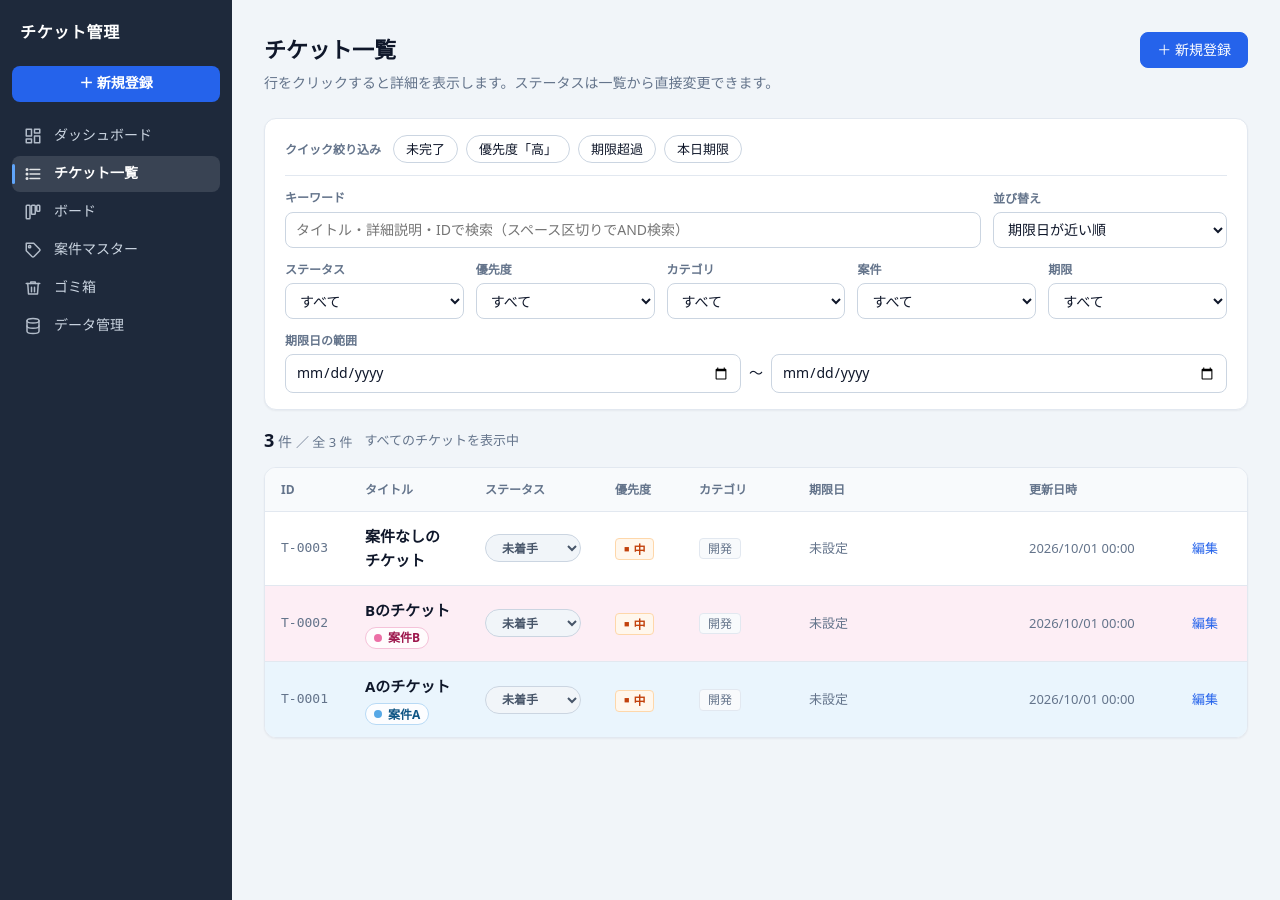
チケットへの案件の設定と絞り込み › 一覧で案件による絞り込みができ、条件チップに案件名が表示される
Select "案件A" in the dropdown labelled "案件" at (947, 301), box 857,283 -> 1036,319
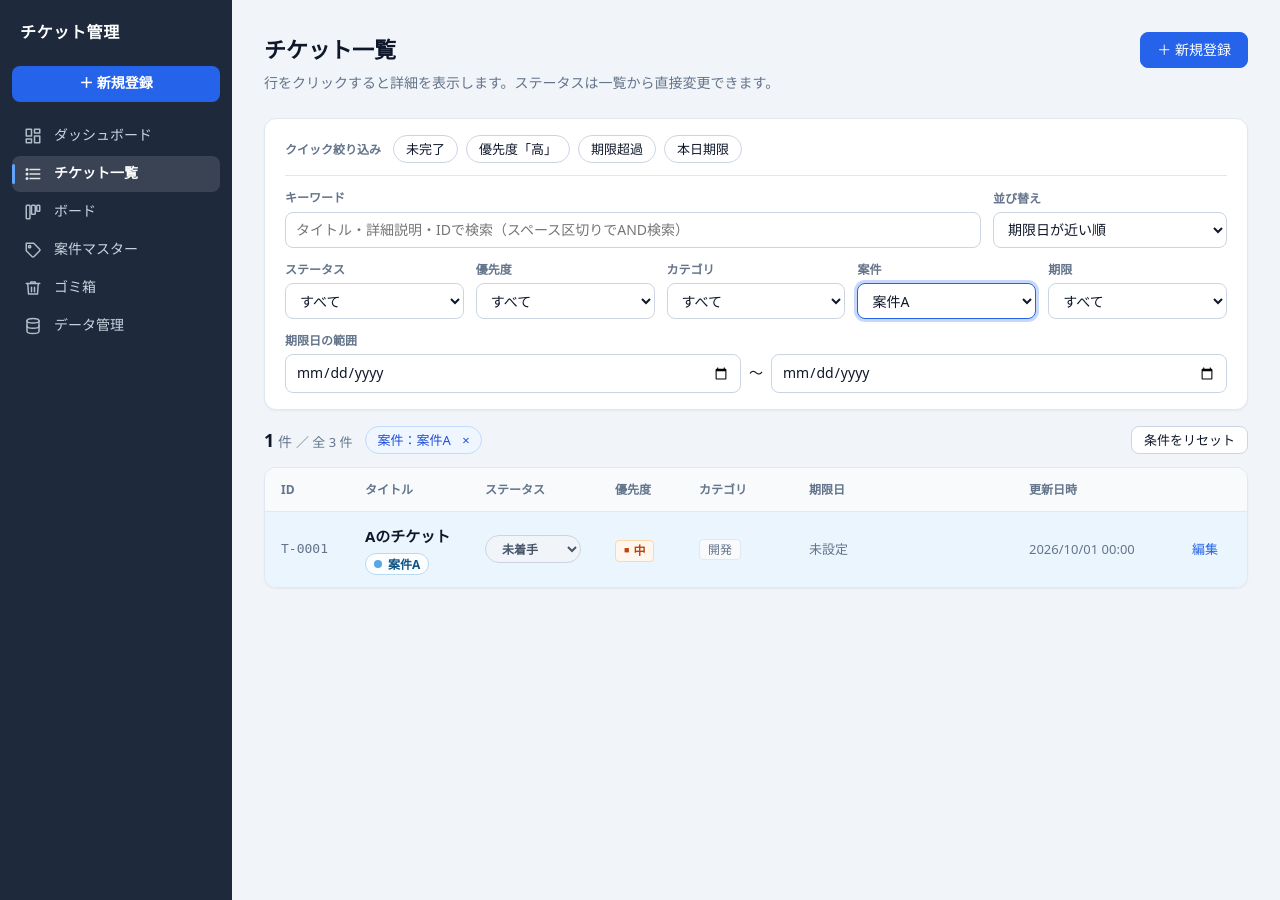
Expected: the link "Aのチケット" is shown, 365,526 -> 450,546
Expected: the text "案件：案件A" is shown, 378,430 -> 451,450
Expected: the link "Bのチケット" is gone
Select "案件なし" in the dropdown labelled "案件" at (947, 301), box 857,283 -> 1036,319
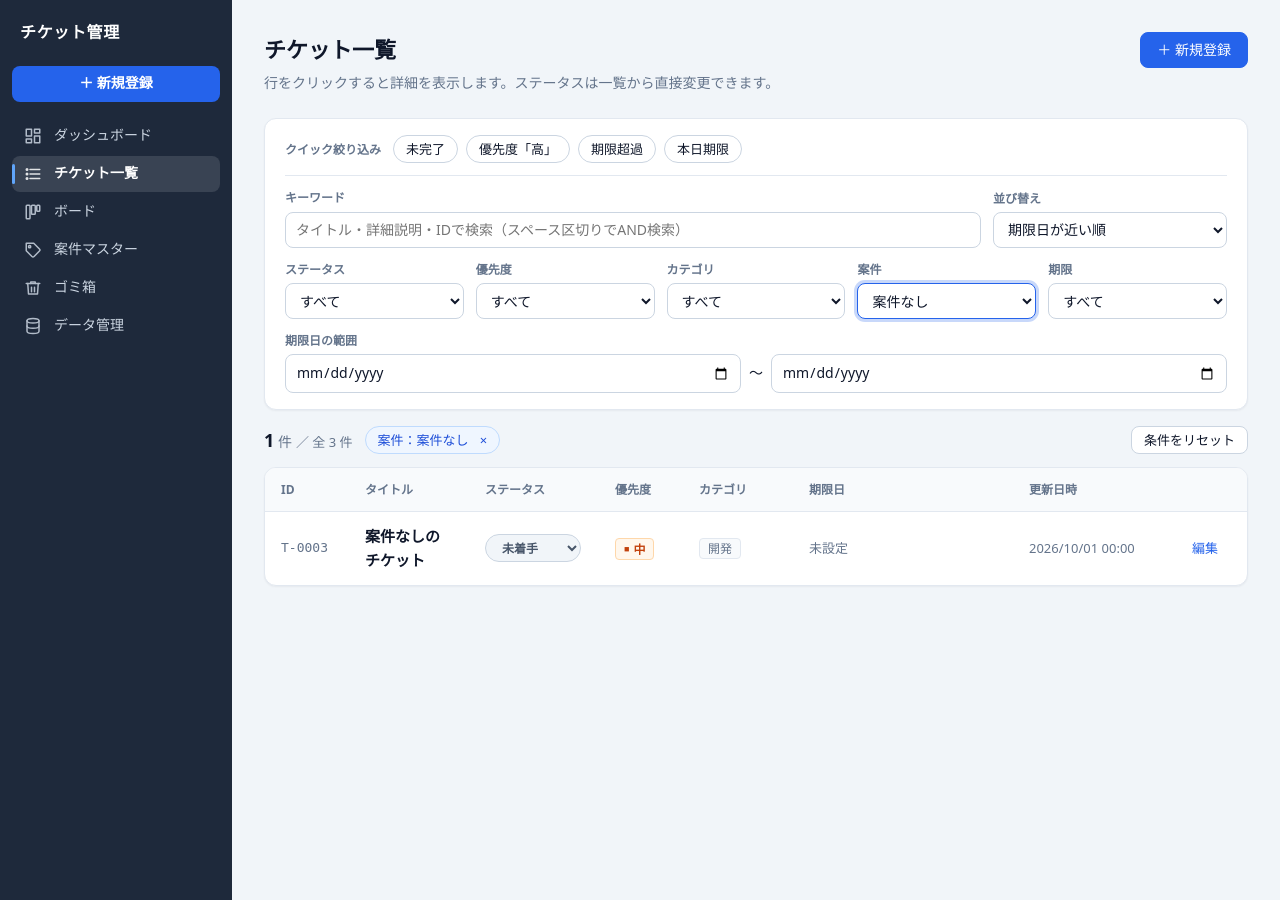
Expected: the link "案件なしのチケット" is shown, 365,526 -> 440,570
Expected: the link "Aのチケット" is gone
